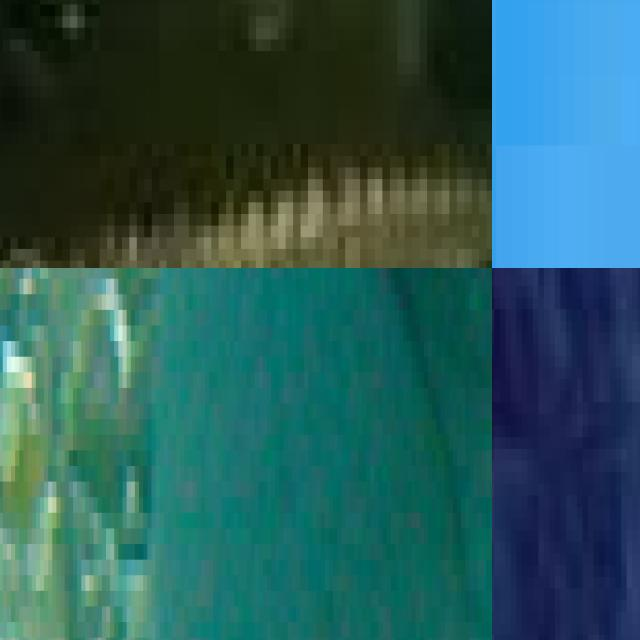fish: (0, 0, 492, 268), (151, 268, 492, 640)
